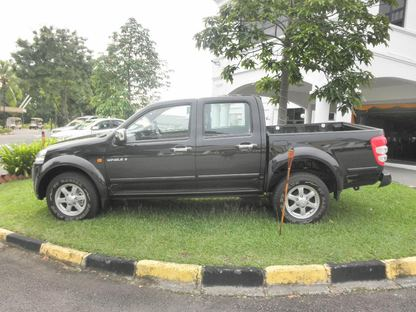car: (49, 118, 126, 142)
truck: (32, 96, 393, 225)
